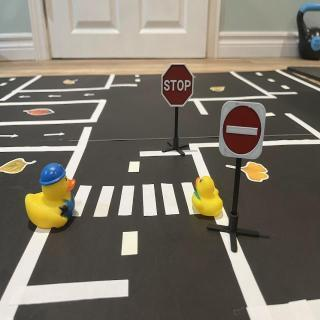duck_regular: (193, 177, 224, 219)
duck_specialty: (26, 165, 76, 232)
road_crosswalk: (74, 181, 207, 221)
road_oneway: (43, 131, 67, 140), (1, 134, 21, 140), (47, 95, 63, 101), (83, 92, 98, 98), (18, 96, 33, 100)
sign_noentry: (219, 105, 267, 161)
sign_stop: (163, 66, 195, 110)
